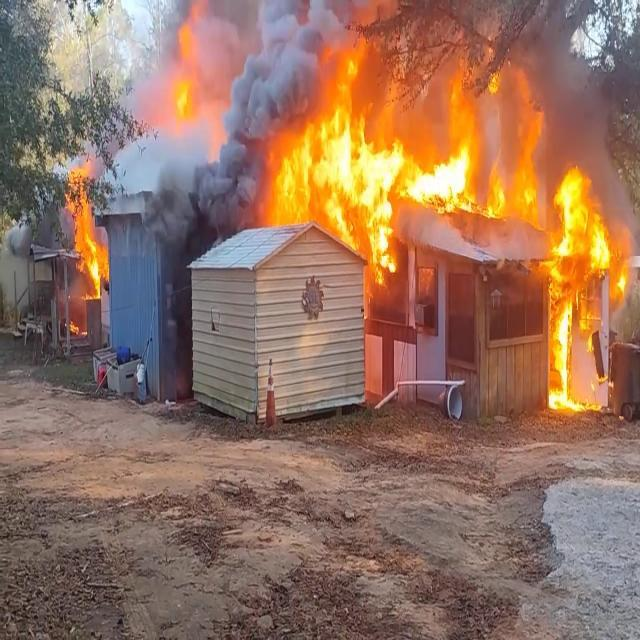Fire: (256, 42, 546, 270), (542, 164, 624, 412), (64, 157, 110, 292), (164, 17, 207, 125)
